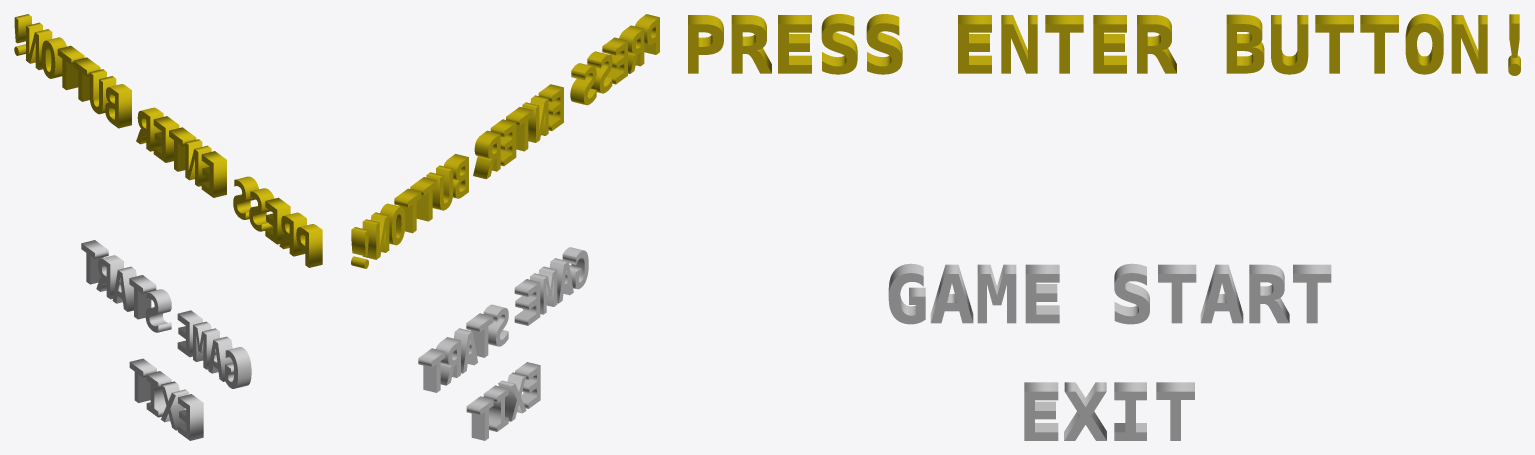
Rendered from menu.obj.
3 renders of one model, left to right at view 1: azimuth 30°, elevation 25°; view 2: azimuth 150°, elevation 25°; view 3: azimuth 270°, elevation 25°, orthographic. The views are drawn at different scales.
Parts seen in each view (by area): view 1: Text.002_EXIT.002, Text_EXIT, Text.001_EXIT.001; view 2: Text.002_EXIT.002, Text_EXIT, Text.001_EXIT.001; view 3: Text.002_EXIT.002, Text_EXIT, Text.001_EXIT.001.
Boxes of the visible parts, left/top/right/bottom form: Text.002_EXIT.002: left=14, top=14, right=322, bottom=267; Text_EXIT: left=81, top=240, right=251, bottom=388; Text.001_EXIT.001: left=129, top=358, right=203, bottom=440; Text.002_EXIT.002: left=351, top=14, right=659, bottom=268; Text_EXIT: left=418, top=247, right=588, bottom=392; Text.001_EXIT.001: left=466, top=362, right=540, bottom=440; Text.002_EXIT.002: left=688, top=14, right=1520, bottom=75; Text_EXIT: left=888, top=263, right=1331, bottom=324; Text.001_EXIT.001: left=1024, top=382, right=1194, bottom=440.
Size of the model in its own units: 0.2146 by 4.5 by 8.13.
